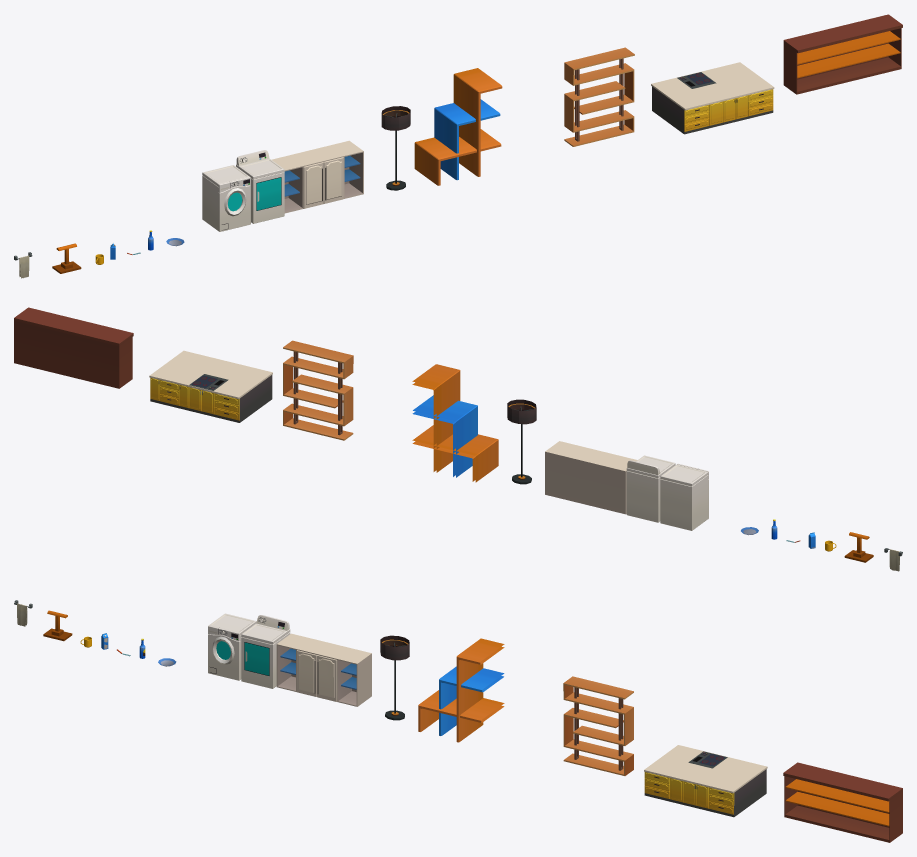
File: Props3.fbx
3 renders of one model, top to bottom at view 1: azimuth 30°, elevation 25°; view 2: azimuth 150°, elevation 25°; view 3: azimuth 330°, elevation 25°, orthographic.
Parts seen in each view (by area): view 1: Machines, Kitchen_Cabinet.001, Kitchen_Cabinet.002, Cabinet.001, Cabinet, Lamp; view 2: Machines, Kitchen_Cabinet.001, Kitchen_Cabinet.002, Cabinet.001, Cabinet, Lamp; view 3: Machines, Kitchen_Cabinet.001, Kitchen_Cabinet.002, Cabinet.001, Cabinet, Lamp.
Part boxes in pixels (bbox=[...]): Machines: bbox=[202, 140, 363, 231]; Kitchen_Cabinet.001: bbox=[783, 14, 902, 94]; Kitchen_Cabinet.002: bbox=[651, 62, 774, 134]; Cabinet.001: bbox=[414, 68, 502, 185]; Cabinet: bbox=[564, 47, 634, 146]; Lamp: bbox=[381, 106, 410, 190]; Machines: bbox=[545, 441, 708, 530]; Kitchen_Cabinet.001: bbox=[14, 307, 133, 388]; Kitchen_Cabinet.002: bbox=[149, 350, 272, 422]; Cabinet.001: bbox=[412, 364, 498, 482]; Cabinet: bbox=[283, 340, 353, 440]; Lamp: bbox=[507, 399, 536, 484]; Machines: bbox=[208, 613, 371, 706]; Kitchen_Cabinet.001: bbox=[783, 762, 902, 842]; Kitchen_Cabinet.002: bbox=[644, 745, 767, 817]; Cabinet.001: bbox=[418, 638, 504, 742]; Cabinet: bbox=[563, 676, 633, 775]; Lamp: bbox=[380, 635, 409, 720].
Size of the model in its own units: 1884 by 175 by 127.
Materials: 1 (1 with a texture image).
